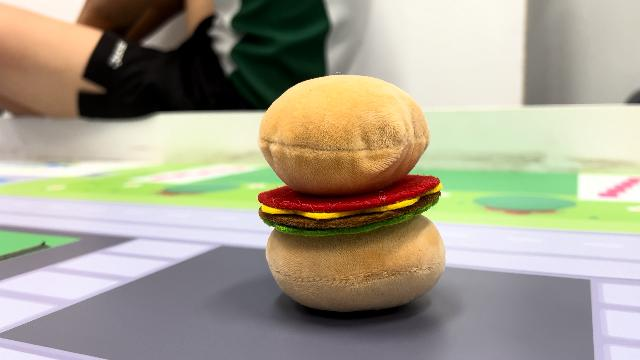burger: (251, 70, 451, 314)
